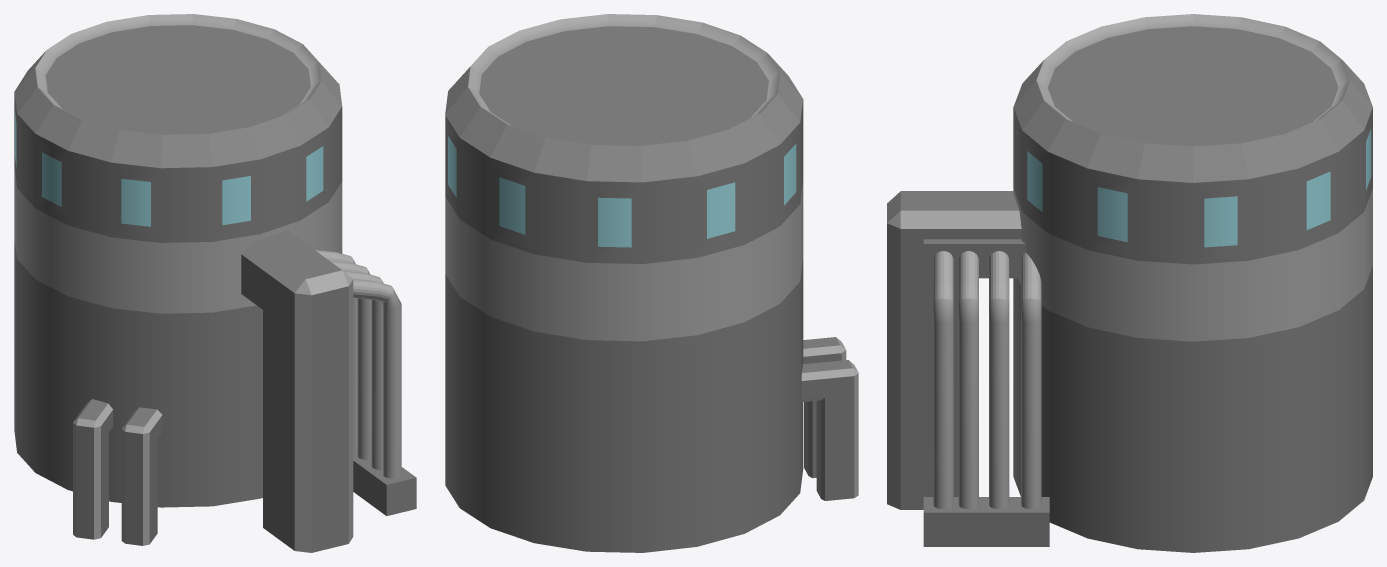
Rendered from FuelTank1.fbx.
The picture shows the model from 3 angles, left to right: view 1: azimuth 30°, elevation 25°; view 2: azimuth 150°, elevation 25°; view 3: azimuth 270°, elevation 25°; orthographic projection. The views are drawn at different scales.
Visible parts, largest first — view 1: Fuel_Tank_1; view 2: Fuel_Tank_1; view 3: Fuel_Tank_1.
Boxes of the visible parts, bbox=[...] form: Fuel_Tank_1: bbox=[14, 14, 416, 552]; Fuel_Tank_1: bbox=[445, 14, 858, 552]; Fuel_Tank_1: bbox=[887, 14, 1372, 552].
Bounding box in the file's own units: 43.88 × 53.33 × 56.23.
